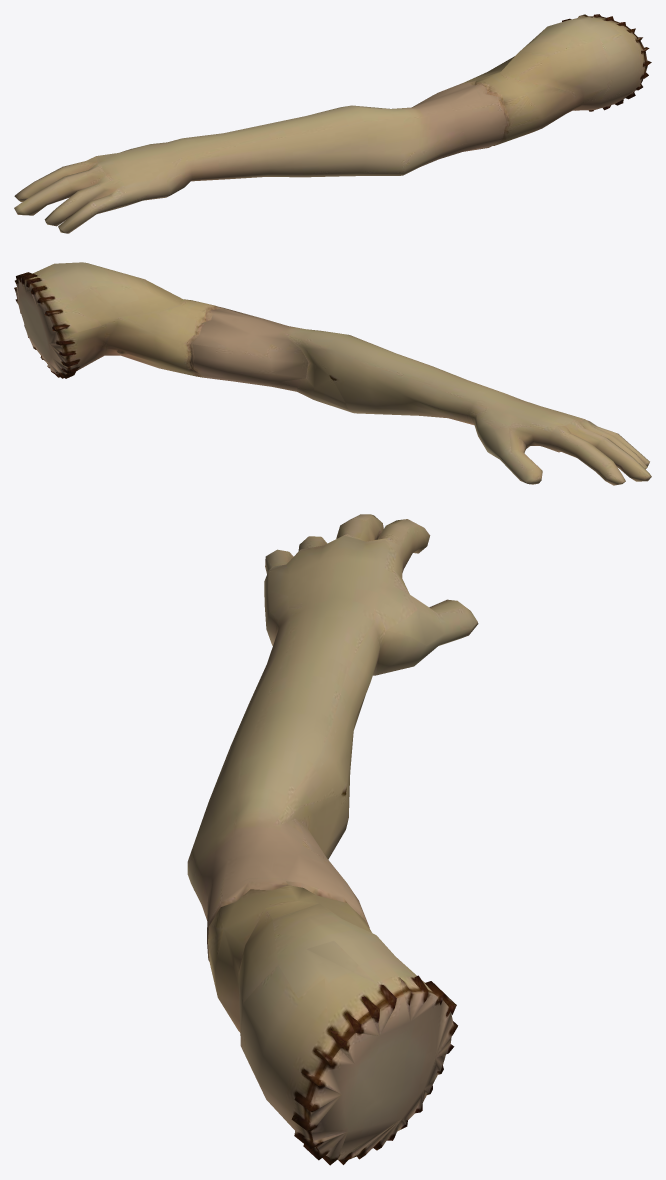
The model's file is arm-skin.glb.
3 renders of one model, top to bottom at view 1: azimuth 30°, elevation 25°; view 2: azimuth 150°, elevation 25°; view 3: azimuth 270°, elevation 25°, orthographic. The views are drawn at different scales.
Parts seen in each view (by area): view 1: tripo_node_66bfc06c-48a3-4c45-b1fe-f7a79; view 2: tripo_node_66bfc06c-48a3-4c45-b1fe-f7a79; view 3: tripo_node_66bfc06c-48a3-4c45-b1fe-f7a79.
Part boxes in pixels (x1,y1,x2,y2): tripo_node_66bfc06c-48a3-4c45-b1fe-f7a79: [14, 14, 651, 233]; tripo_node_66bfc06c-48a3-4c45-b1fe-f7a79: [14, 262, 651, 485]; tripo_node_66bfc06c-48a3-4c45-b1fe-f7a79: [187, 514, 478, 1165].
Size of the model in its own units: 0.1053 by 0.0163 by 0.0213.
Materials: 1 (1 with a texture image).
